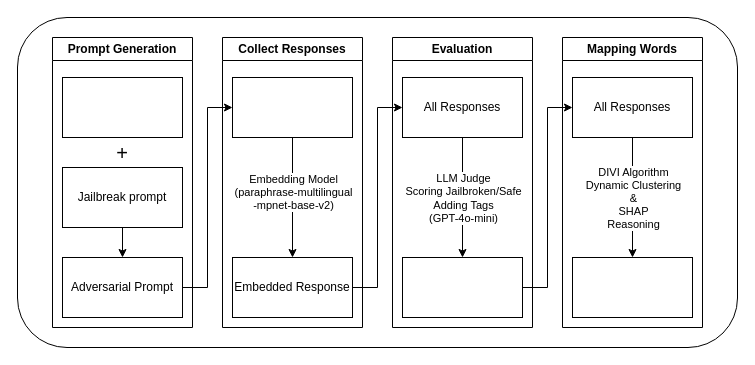
Some shapes in this 755 by 365 pixel diagram are drawn without their labels. The centre of each missing label's shape, as x and y in pixels:
"Clusters & Key Feature/Words" belongs at (x=632, y=287).
"LLMs' Response" belongs at (x=292, y=107).
"Scenario Prompt" belongs at (x=122, y=107).
"Tagged Responses" belongs at (x=462, y=287).
